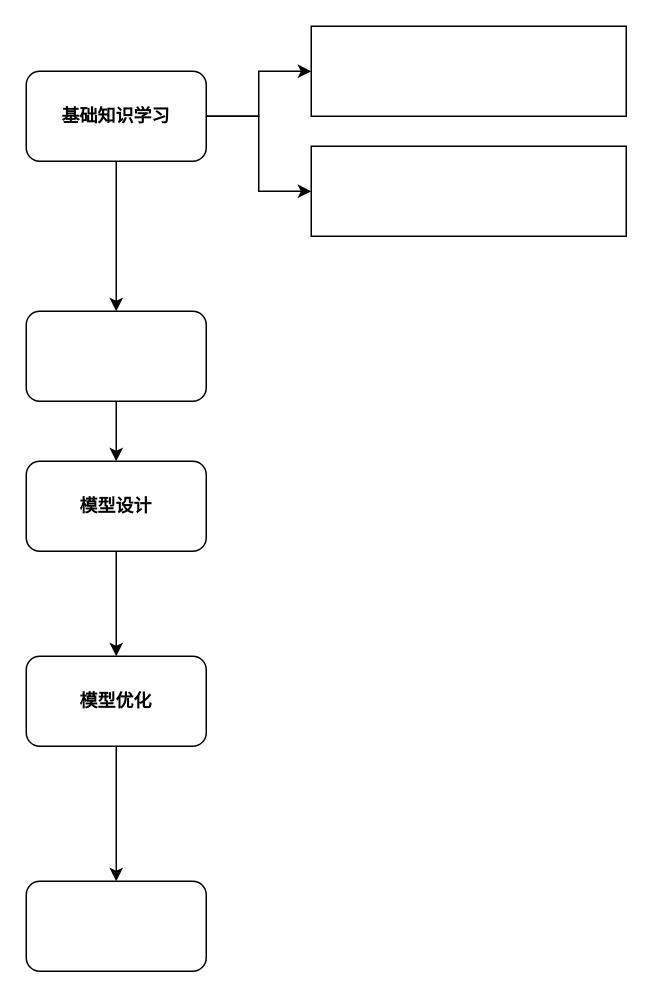
Image size: 653x998. Some labels were removed from this diagram. Here are the shapes that lost their labels. From the top down, the box of each, then its label:
(25, 310, 206, 401): 数据处理
(25, 880, 206, 971): 总结
